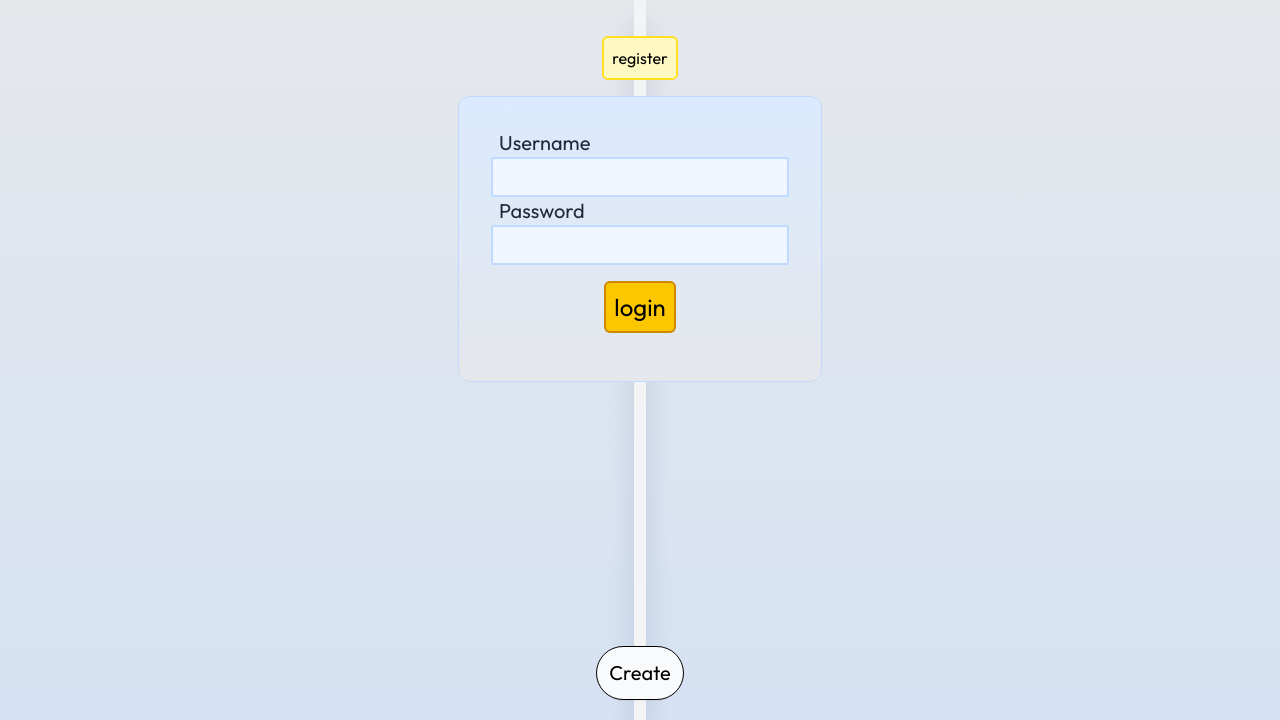
login › username and password required
Click the button "login" at (640, 307), box [604,281,675,333]
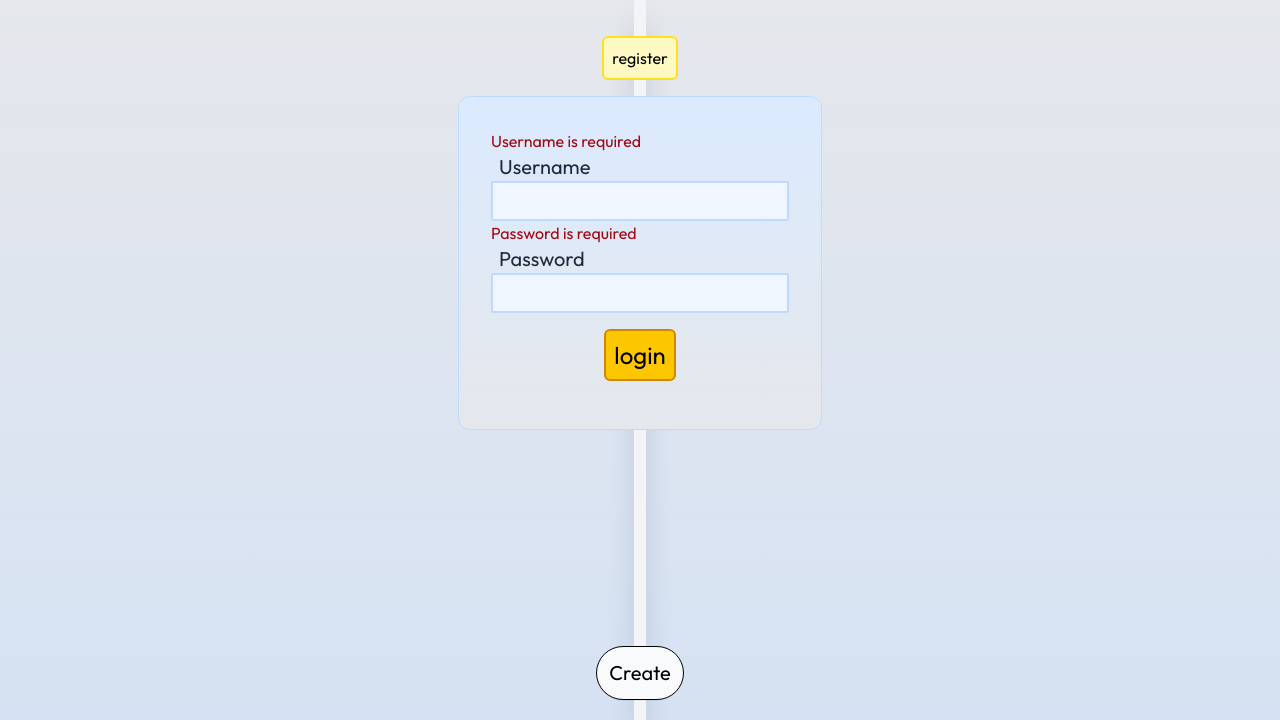
Now the text "Username is required" is shown, box [491,131,641,151]
Now the text "Password is required" is shown, box [491,223,637,243]
